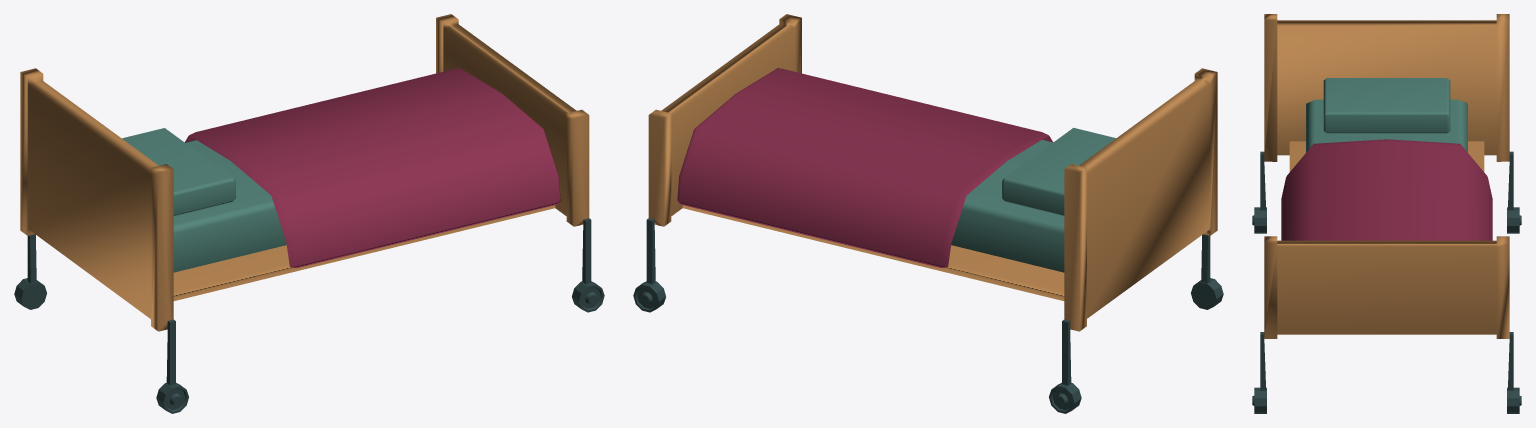
File: bloodybed.obj
3 renders of one model, left to right at view 1: azimuth 30°, elevation 25°; view 2: azimuth 150°, elevation 25°; view 3: azimuth 270°, elevation 25°, orthographic. The views are drawn at different scales.
Parts seen in each view (by area): view 1: blanket_low, bedframe_low_bedframe_low, mattress_low, pillow_low; view 2: blanket_low, bedframe_low_bedframe_low, mattress_low, pillow_low; view 3: bedframe_low_bedframe_low, blanket_low, pillow_low, mattress_low.
Boxes of the visible parts, left/top/right/bottom form: blanket_low: left=185, top=68, right=560, bottom=267; bedframe_low_bedframe_low: left=14, top=14, right=604, bottom=413; mattress_low: left=173, top=140, right=286, bottom=272; pillow_low: left=122, top=128, right=235, bottom=216; blanket_low: left=677, top=68, right=1052, bottom=267; bedframe_low_bedframe_low: left=633, top=14, right=1223, bottom=413; mattress_low: left=951, top=140, right=1064, bottom=272; pillow_low: left=1002, top=127, right=1115, bottom=215; bedframe_low_bedframe_low: left=1252, top=14, right=1521, bottom=413; blanket_low: left=1281, top=139, right=1492, bottom=240; pillow_low: left=1323, top=78, right=1450, bottom=133; mattress_low: left=1306, top=99, right=1467, bottom=152.
Size of the model in its own units: 6.97 by 3.61 by 4.15.
